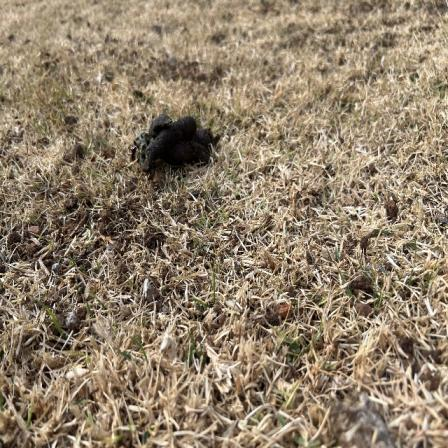dog-poop: (131, 108, 217, 170)
